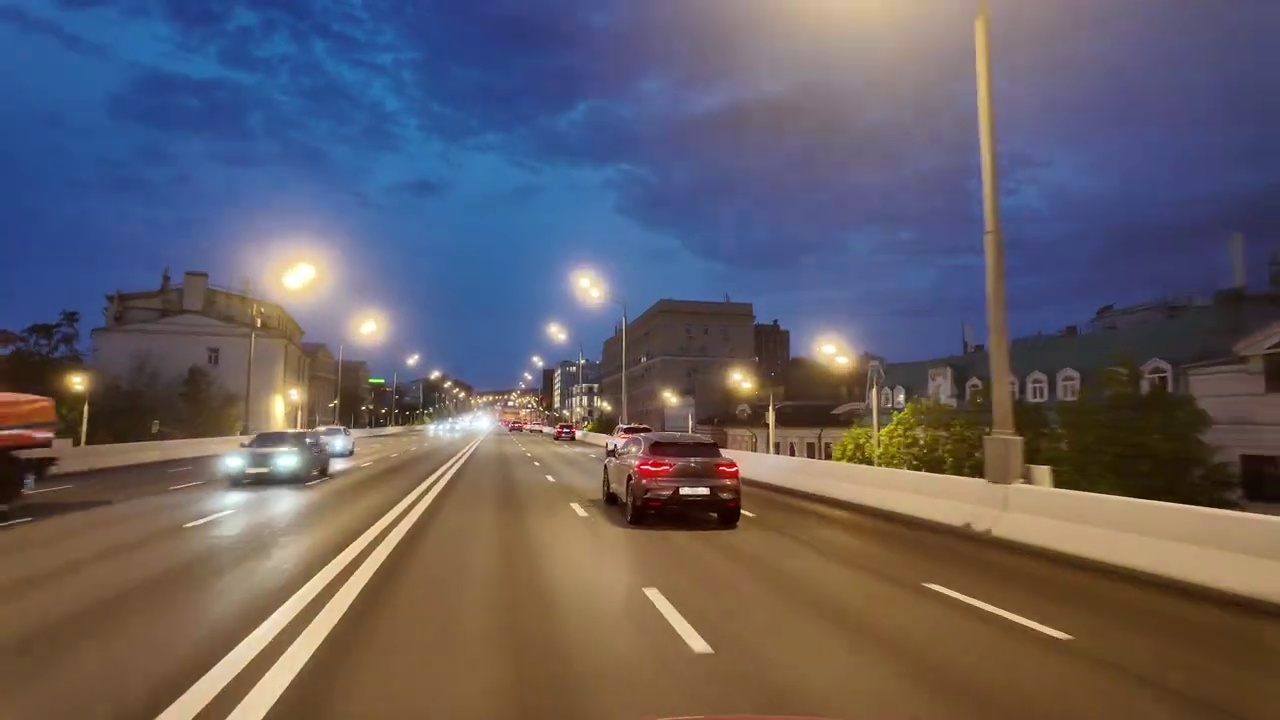acesa: (275, 256, 322, 298), (813, 335, 858, 377), (573, 270, 606, 305), (724, 366, 759, 398), (351, 310, 384, 342), (546, 322, 570, 344)
